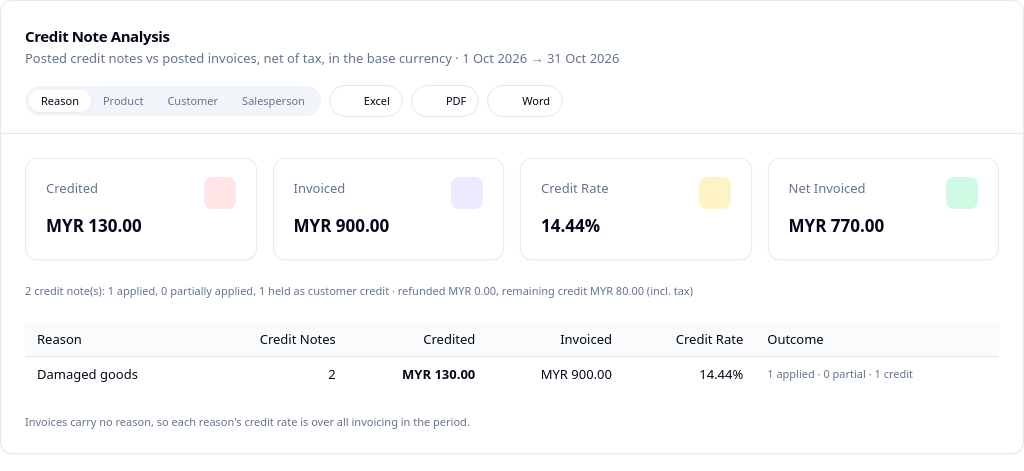
CreditNoteAnalysisView (#532) › regroups by customer
This screenshot has width=1024, height=471.
Expected: the button "Damaged goods" is shown, [37,365,138,383]
Click the button "Customer".
click(193, 101)  # box [155,90,230,112]
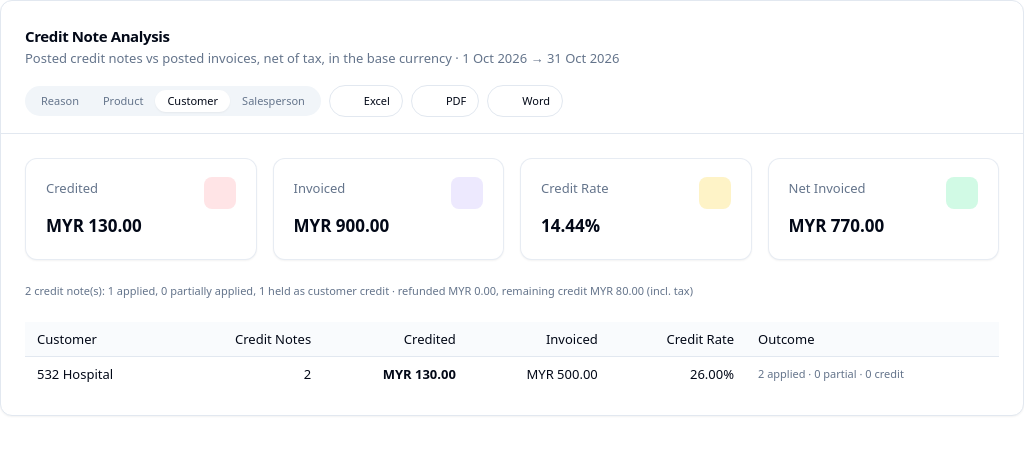
Expected: the button "532 Hospital" is shown, [37,365,113,383]
Expected: the text "26.00%" is shown, [610,356,746,391]
